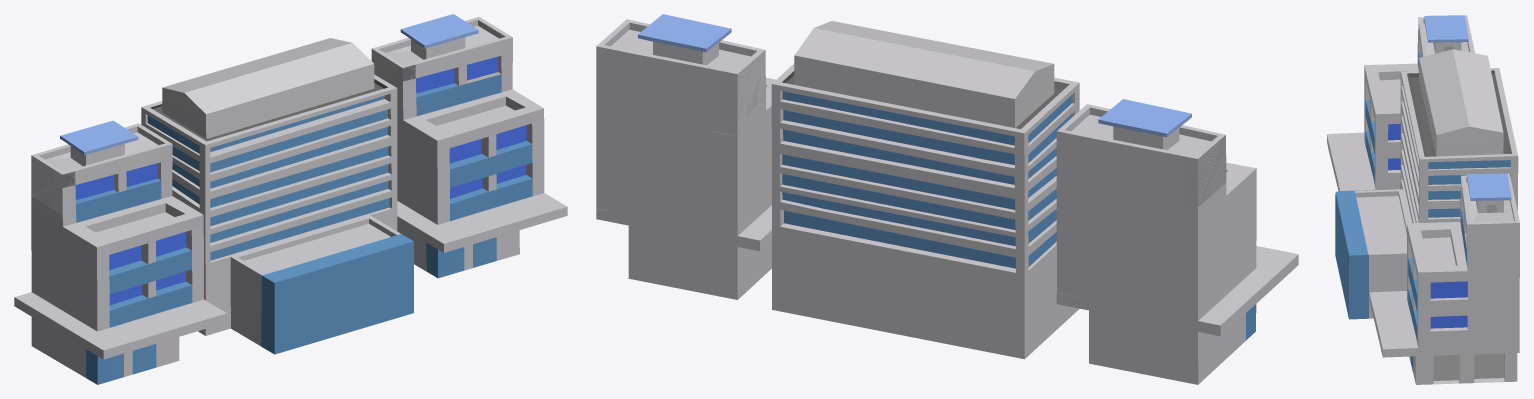
File: building7.glb
The picture shows the model from 3 angles, left to right: view 1: azimuth 30°, elevation 25°; view 2: azimuth 150°, elevation 25°; view 3: azimuth 270°, elevation 25°; orthographic projection. The views are drawn at different scales.
Visible parts, largest first — view 1: Cube; view 2: Cube; view 3: Cube.
Part boxes in pixels (x1,y1,x2,y2): Cube: (14, 14, 567, 384); Cube: (596, 14, 1298, 384); Cube: (1327, 15, 1519, 384).
Bounding box in the file's own units: 1039 × 437 × 384.
